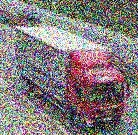truck: (11, 25, 134, 131)
